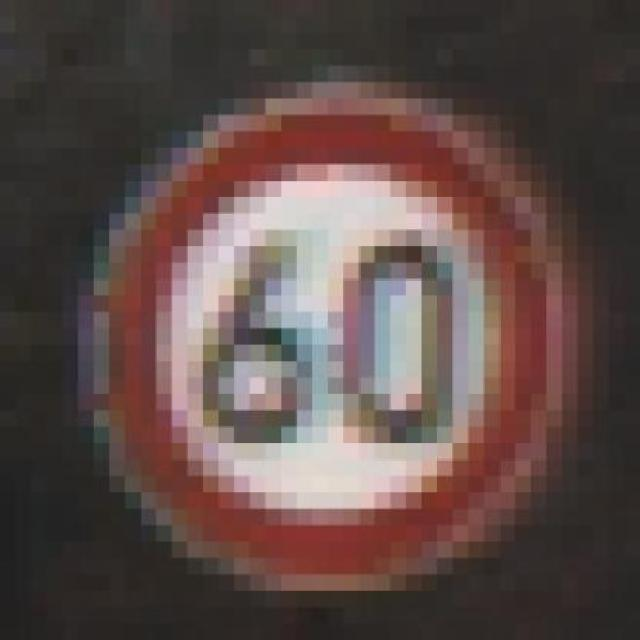forb_speed_over_60: (109, 109, 542, 574)
